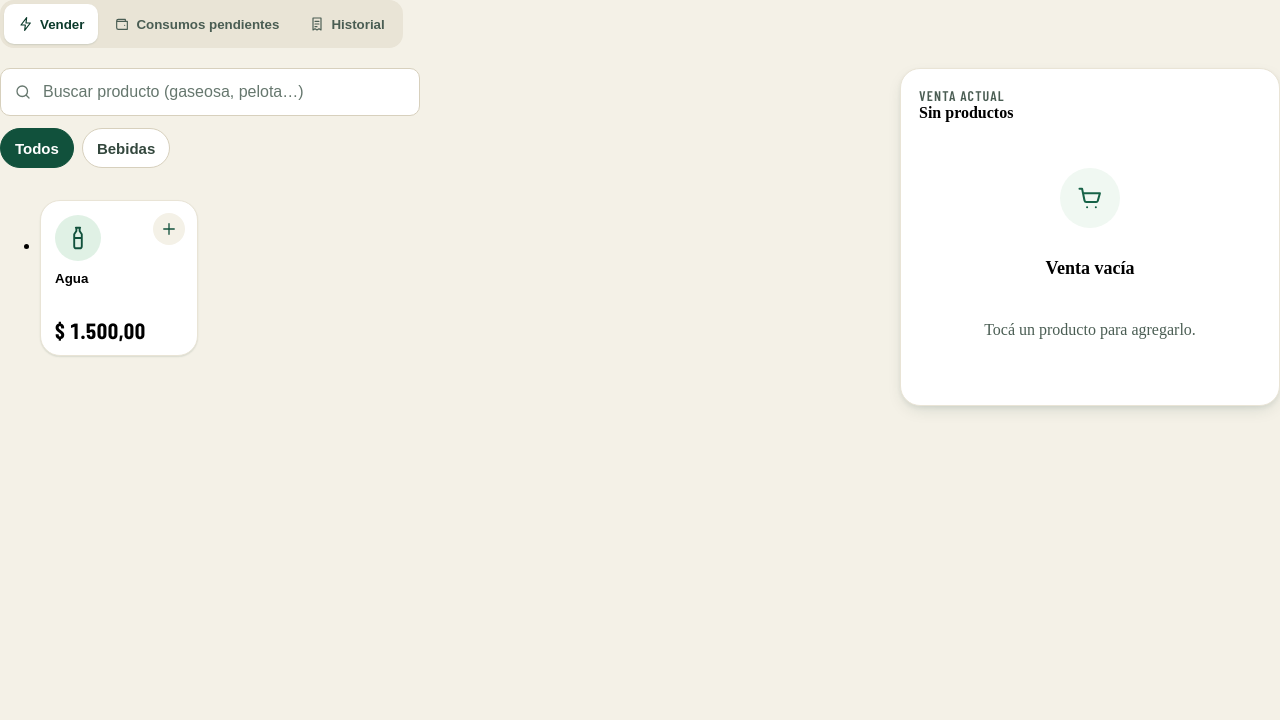
Test case: CanteenPanel · venta idempotente (SEC-05) › rechazo del servidor: muestra el motivo dentro del diálogo y conserva el carrito
What coordinates should you click on to do the following:
click the button "Agua $ 1.500,00"
I would click on:
 (119, 278)
Its box is [40,200,198,356].
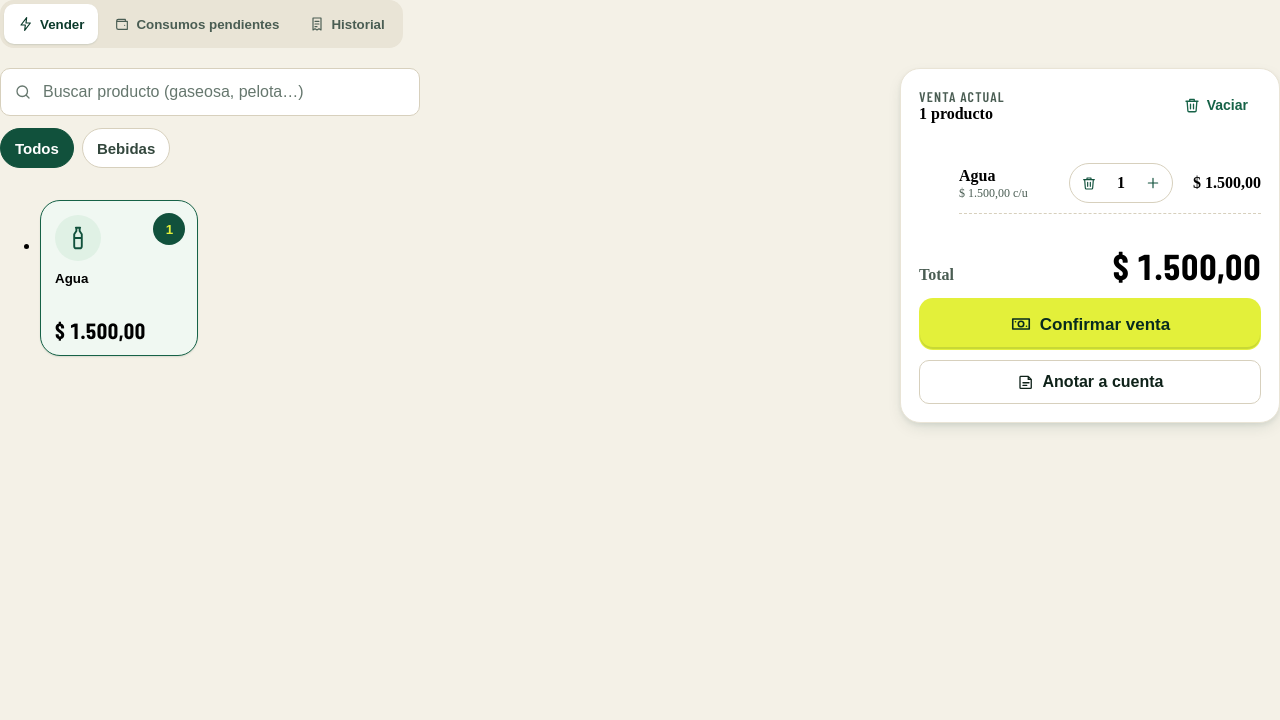
What coordinates should you click on to do the following:
click the button "Confirmar venta"
I would click on:
 (1090, 324)
Its box is [919,298,1261,350].
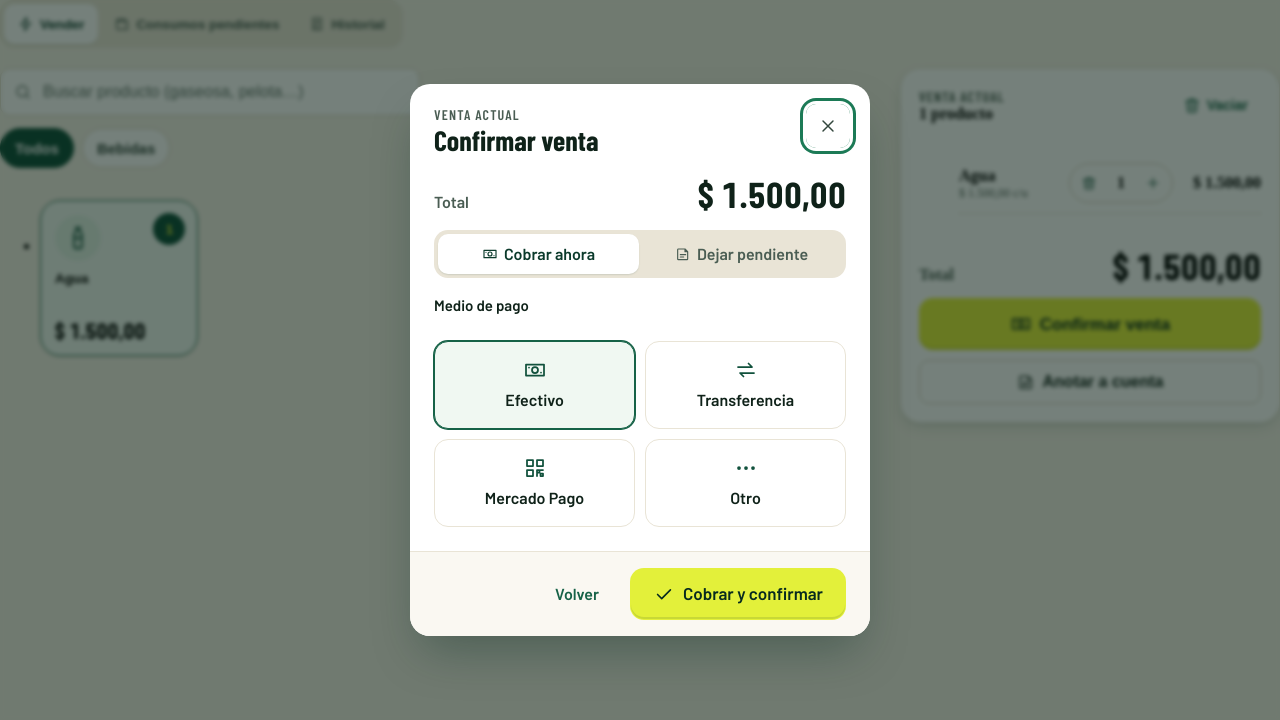
What coordinates should you click on to do the following:
click the button "Cobrar y confirmar"
I would click on:
 (738, 594)
Its box is [630,568,846,620].
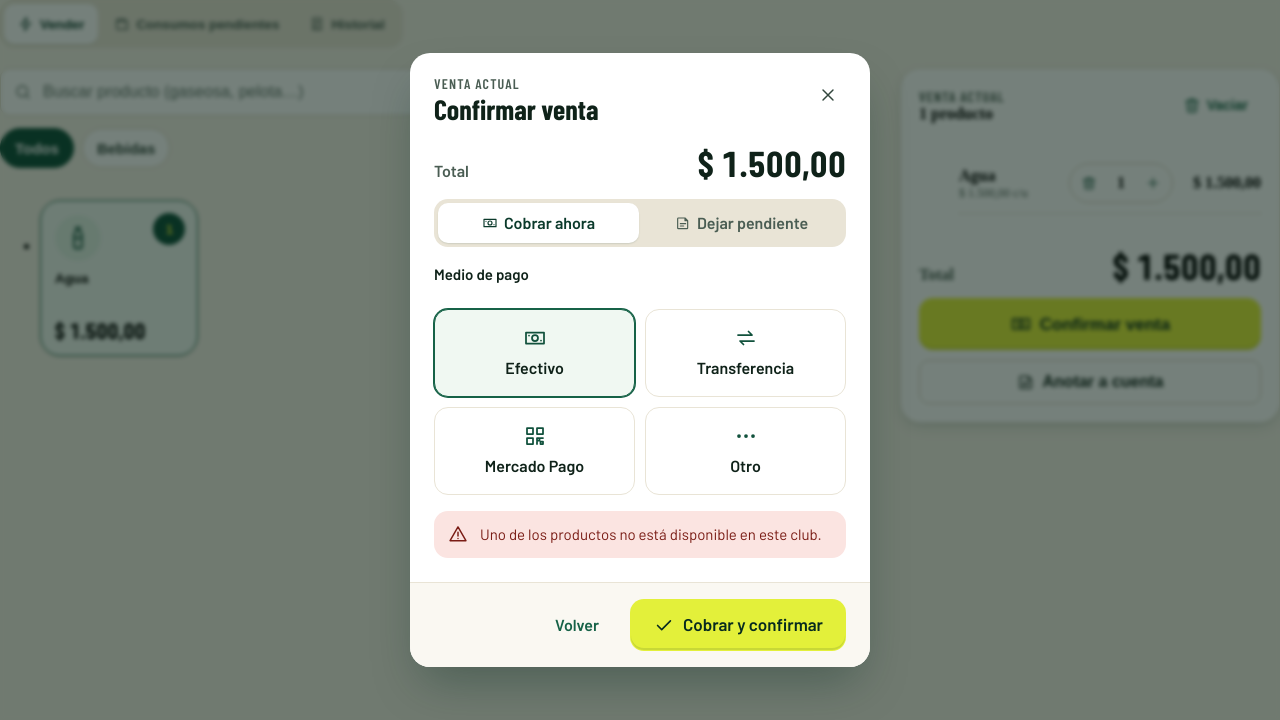
Expected: the text "Tocá un producto para agregarlo." is not shown
Result: the message reads "Uno de los productos no está disponible en este club." at [480,525,822,543]
